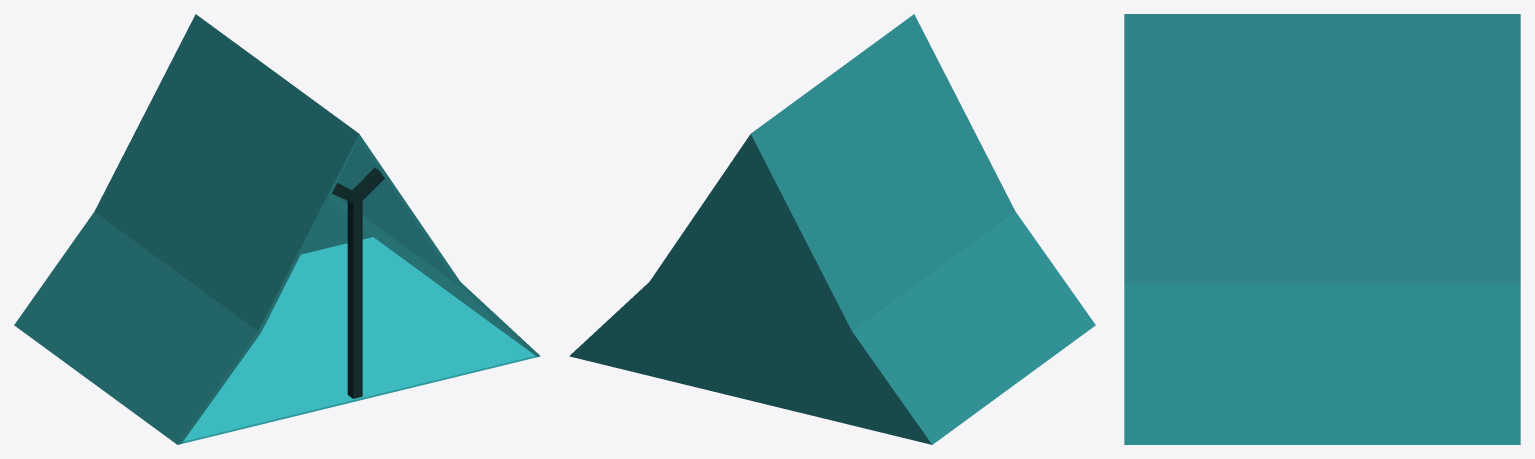
The model's file is Tent_1_Blue.fbx.
3 renders of one model, left to right at view 1: azimuth 30°, elevation 25°; view 2: azimuth 150°, elevation 25°; view 3: azimuth 270°, elevation 25°, orthographic. The views are drawn at different scales.
Visible parts, largest first — view 1: Tent_1_Blue_Part_3, Tent_1_Blue_Part_1, Tent_1_Blue_Part_2, Tent_1_Blue_Part_5, Tent_1_Blue_Part_7, Tent_1_Blue_Part_4, Tent_1_Blue_Part_6; view 2: Tent_1_Blue_Part_3, Tent_1_Blue_Part_6, Tent_1_Blue_Part_2, Tent_1_Blue_Part_5; view 3: Tent_1_Blue_Part_5, Tent_1_Blue_Part_4.
Part boxes in pixels (x1,y1,x2,y2): Tent_1_Blue_Part_3: (94,14,359,332); Tent_1_Blue_Part_1: (181,237,536,443); Tent_1_Blue_Part_2: (14,212,260,444); Tent_1_Blue_Part_5: (335,134,460,284); Tent_1_Blue_Part_7: (332,167,384,398); Tent_1_Blue_Part_4: (330,194,540,357); Tent_1_Blue_Part_6: (301,198,372,254); Tent_1_Blue_Part_3: (750,14,1015,332); Tent_1_Blue_Part_6: (573,140,928,443); Tent_1_Blue_Part_2: (849,212,1095,444); Tent_1_Blue_Part_5: (649,134,750,284); Tent_1_Blue_Part_5: (1124,14,1520,283); Tent_1_Blue_Part_4: (1124,283,1520,444).
Bounding box in the file's own units: 192 × 135 × 150.
